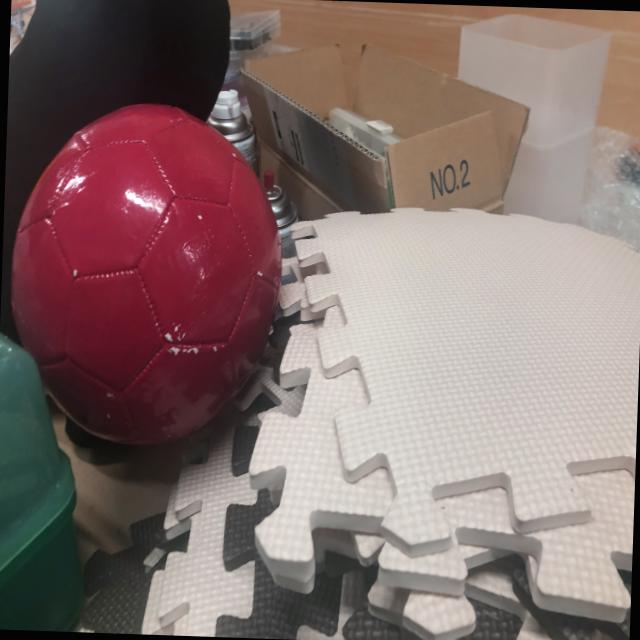red_ball: (4, 98, 289, 456)
